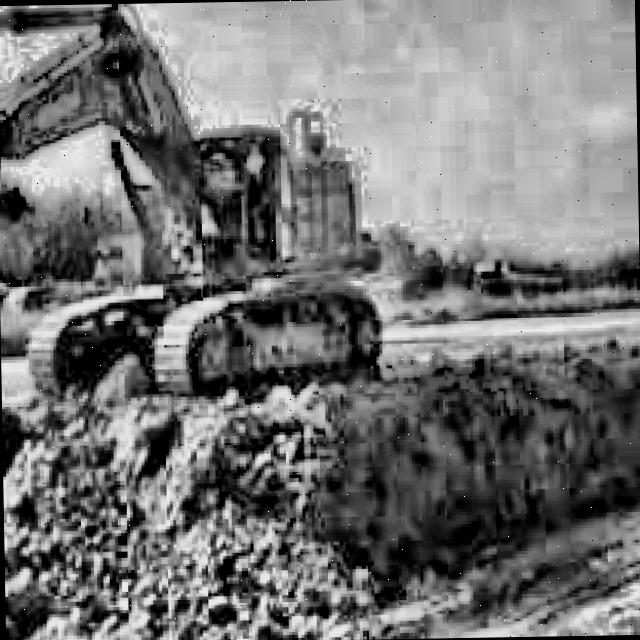excavator: (0, 0, 386, 590)
